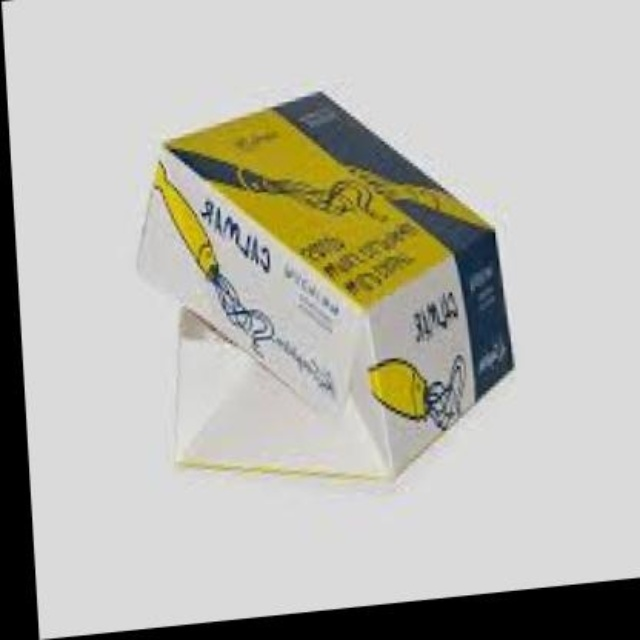trash: (138, 92, 511, 475)
